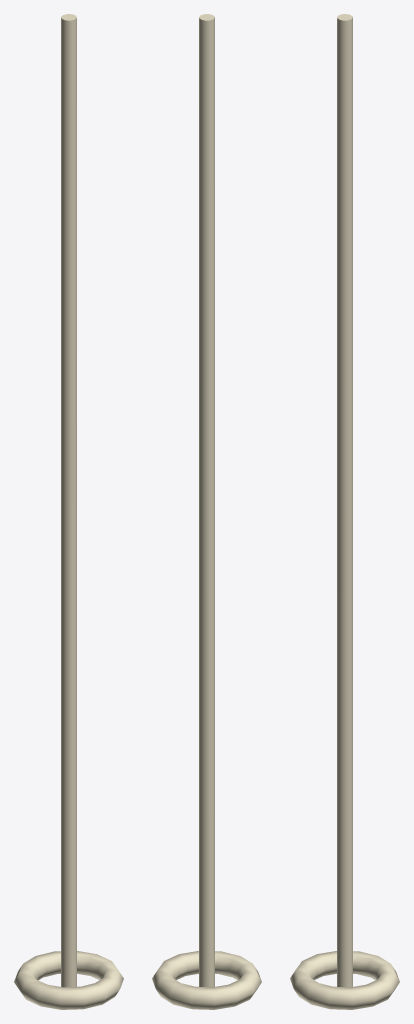
Rendered from corde_escalade.glb.
3 renders of one model, left to right at view 1: azimuth 30°, elevation 25°; view 2: azimuth 150°, elevation 25°; view 3: azimuth 330°, elevation 25°, orthographic.
Size of the model in its own units: 0.328 by 3.2 by 0.3198.
